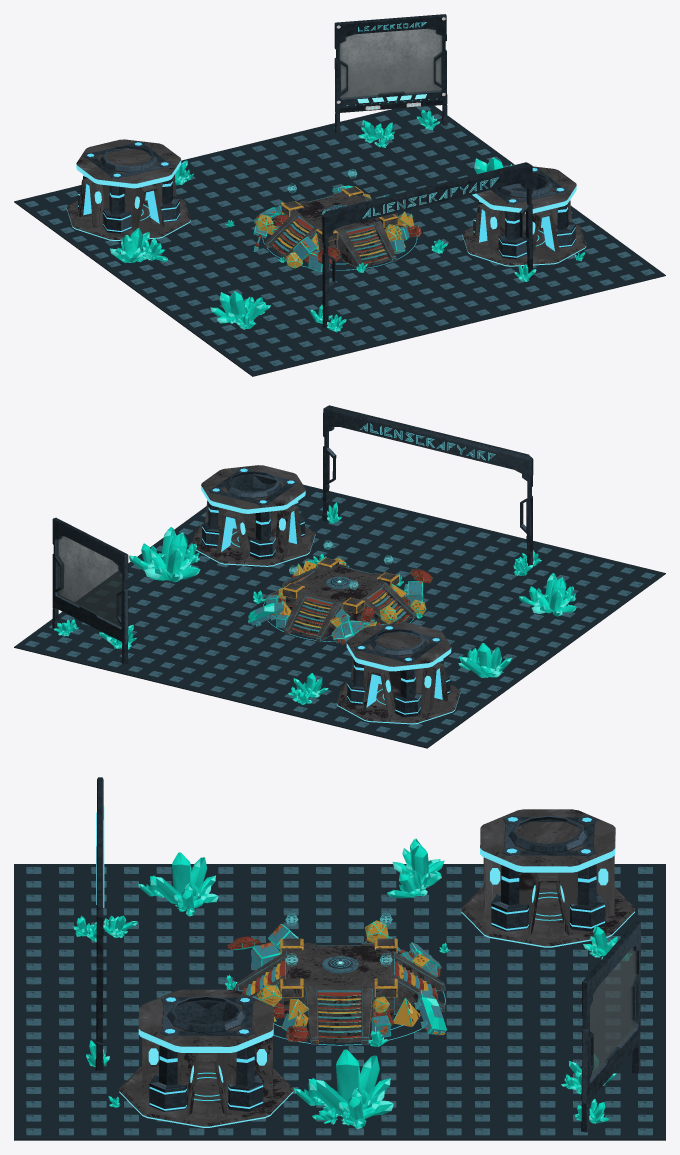
File: AS_ENVIROMENT_20260824.glb
3 views of the same model, one above another, from view 1: azimuth 30°, elevation 25°; view 2: azimuth 150°, elevation 25°; view 3: azimuth 270°, elevation 25° (orthographic). The views are drawn at different scales.
Visible parts, largest first — view 1: Floor_Base.001, Floor_P_0_0.002, defaultMaterial.002, defaultMaterial.001, defaultMaterial, Dome_Body.001, Dome_Rock_0.002, Dome_Rock_0.004, Dome_Base1, Escalera, Dome_Base1.002, Dome_Body (+11 smaller); view 2: Floor_Base.001, Floor_P_0_0.002, defaultMaterial.001, defaultMaterial.002, defaultMaterial, Dome_Body.001, Dome_Rock_0.004, Dome_Rock_0.002, Dome_Body, Base.001, Dome_Base1.002, Dome_Base1 (+13 smaller); view 3: Floor_Base.001, Floor_P_0_0.002, Dome_Body.001, Dome_Rock_0.004, defaultMaterial, Dome_Rock_0.002, Dome_Base1, Dome_Base1.002, Dome_Body, Base.001, defaultMaterial.002, Escalera (+24 smaller).
Part boxes in pixels (x1=…): Floor_Base.001: x1=14, y1=105, x2=665, y2=376; Floor_P_0_0.002: x1=24, y1=106, x2=654, y2=371; defaultMaterial.002: x1=339, y1=28, x2=442, y2=98; defaultMaterial.001: x1=322, y1=162, x2=533, y2=328; defaultMaterial: x1=334, y1=14, x2=447, y2=133; Dome_Body.001: x1=76, y1=139, x2=181, y2=188; Dome_Rock_0.002: x1=77, y1=141, x2=180, y2=233; Dome_Rock_0.004: x1=473, y1=167, x2=575, y2=259; Dome_Base1: x1=462, y1=224, x2=586, y2=266; Escalera: x1=271, y1=218, x2=388, y2=266; Dome_Base1.002: x1=66, y1=198, x2=190, y2=240; Dome_Body: x1=472, y1=166, x2=576, y2=213; Floor_Base.001: x1=14, y1=484, x2=665, y2=748; Floor_P_0_0.002: x1=25, y1=492, x2=655, y2=742; defaultMaterial.001: x1=322, y1=405, x2=533, y2=571; defaultMaterial.002: x1=56, y1=535, x2=122, y2=627; defaultMaterial: x1=52, y1=517, x2=128, y2=664; Dome_Body.001: x1=346, y1=622, x2=451, y2=671; Dome_Rock_0.004: x1=201, y1=467, x2=304, y2=559; Dome_Rock_0.002: x1=347, y1=625, x2=450, y2=717; Dome_Body: x1=201, y1=465, x2=305, y2=513; Base.001: x1=298, y1=565, x2=383, y2=612; Dome_Base1.002: x1=336, y1=682, x2=460, y2=724; Dome_Base1: x1=192, y1=524, x2=315, y2=566; Floor_Base.001: x1=14, y1=864, x2=665, y2=1140; Floor_P_0_0.002: x1=26, y1=867, x2=652, y2=1135; Dome_Body.001: x1=480, y1=809, x2=615, y2=872; Dome_Rock_0.004: x1=149, y1=995, x2=263, y2=1111; defaultMaterial: x1=581, y1=921, x2=640, y2=1132; Dome_Rock_0.002: x1=491, y1=815, x2=605, y2=931; Dome_Base1: x1=119, y1=1062, x2=293, y2=1127; Dome_Base1.002: x1=461, y1=882, x2=634, y2=947; Dome_Body: x1=138, y1=989, x2=273, y2=1052; Base.001: x1=285, y1=945, x2=394, y2=1013; defaultMaterial.002: x1=590, y1=947, x2=636, y2=1079; Escalera: x1=242, y1=961, x2=437, y2=1042.
Size of the model in its own units: 80 by 22.94 by 80.
Materials: 12 (6 with a texture image).
